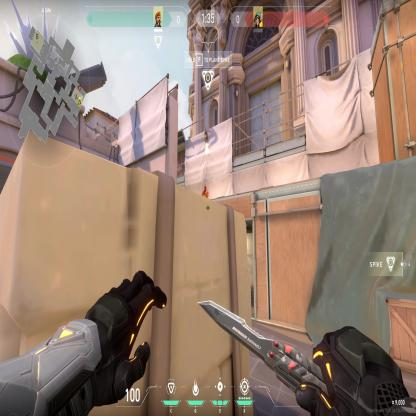enemy: (201, 183, 209, 198)
